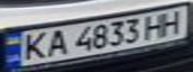3: (121, 16, 145, 44), (109, 19, 127, 47)
4: (72, 24, 96, 52)
8: (90, 20, 112, 51)
A: (42, 27, 72, 57)
H: (157, 8, 190, 36), (139, 11, 172, 38)
K: (15, 29, 51, 62)
